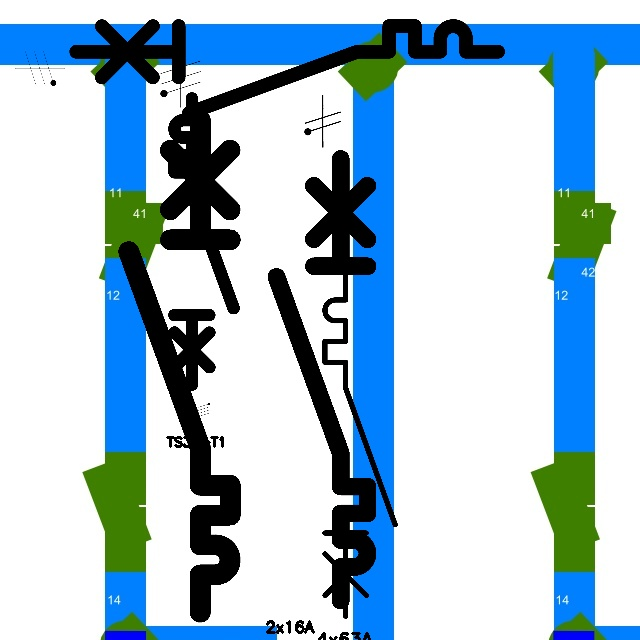interruptor_termomagnetico: (116, 107, 243, 624), (265, 147, 379, 611), (65, 15, 509, 123), (316, 265, 404, 625), (167, 91, 240, 392)
